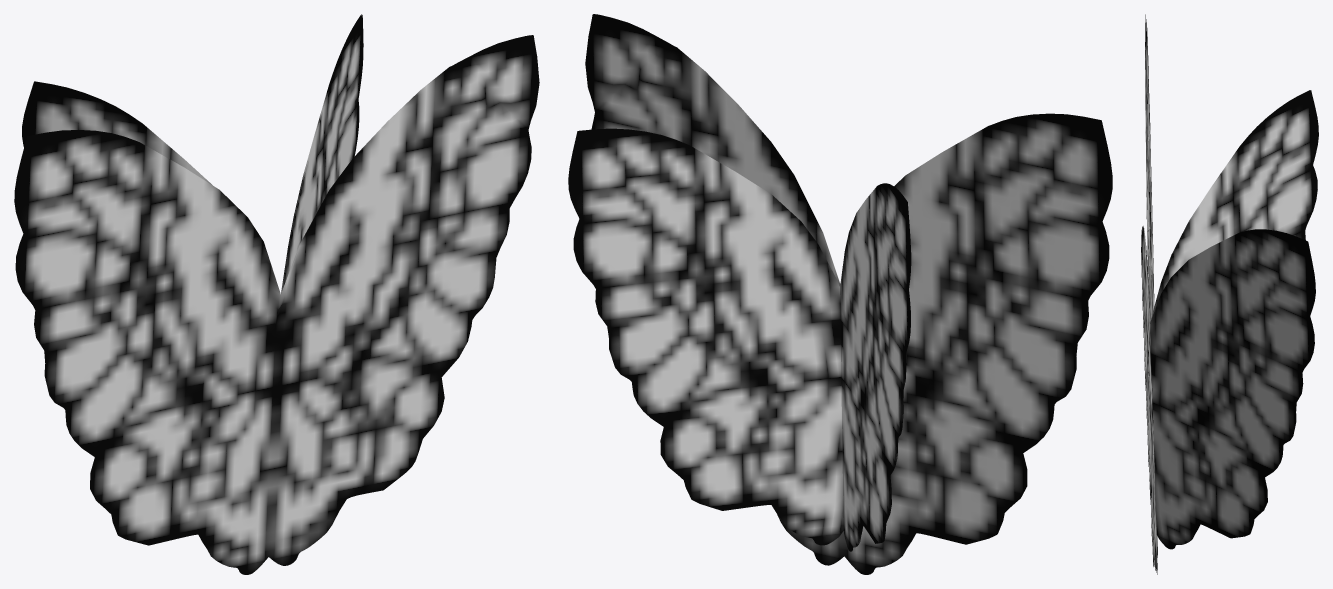
The model's file is butterly.fbx.
The picture shows the model from 3 angles, left to right: view 1: azimuth 30°, elevation 25°; view 2: azimuth 150°, elevation 25°; view 3: azimuth 270°, elevation 25°; orthographic projection. The views are drawn at different scales.
Parts seen in each view (by area): view 1: Butterfly Mesh; view 2: Butterfly Mesh; view 3: Butterfly Mesh.
Boxes of the visible parts, x1,y1,x2,y2 form: Butterfly Mesh: [14, 14, 539, 574]; Butterfly Mesh: [568, 14, 1112, 574]; Butterfly Mesh: [1141, 14, 1318, 574].
Bounding box in the file's own units: 214 × 196 × 70.98.
